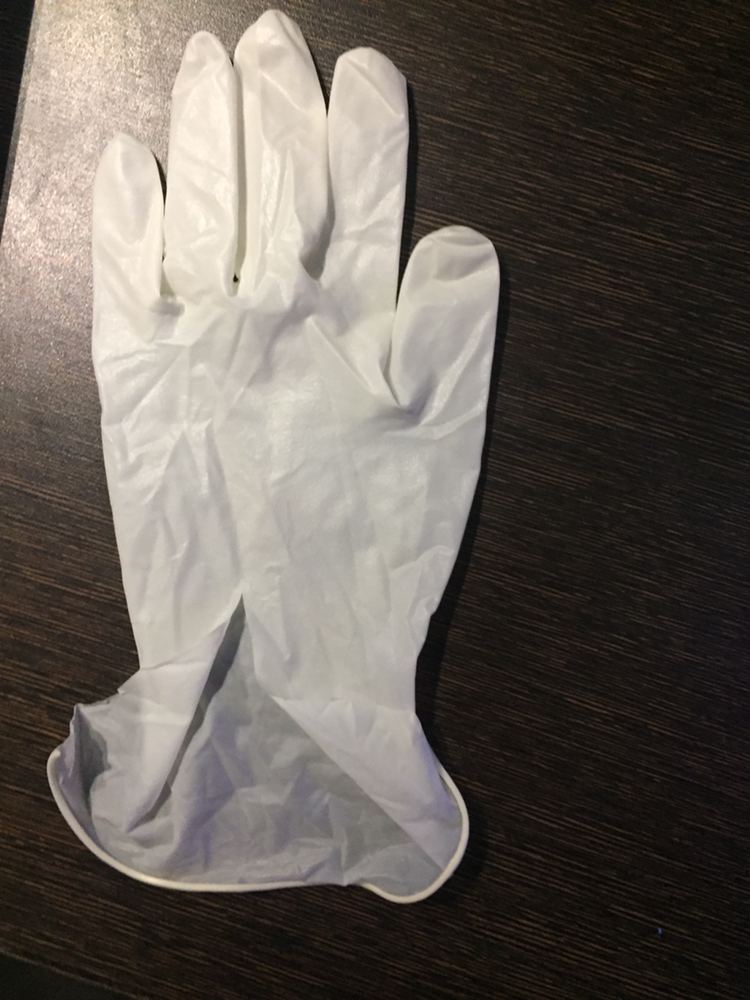defected: (17, 18, 592, 854)
